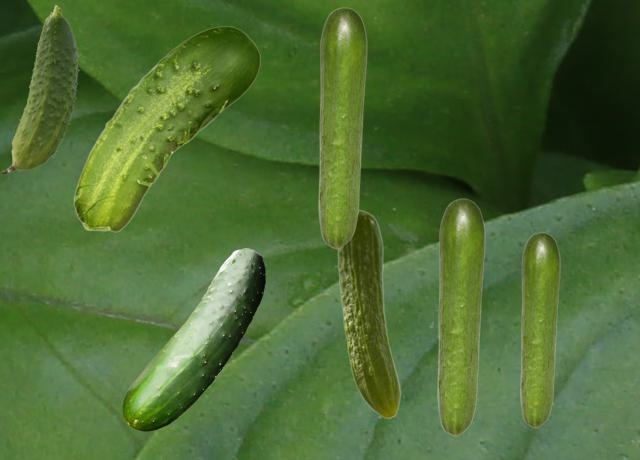cucumber: (73, 26, 259, 231), (122, 248, 264, 430), (337, 209, 400, 418), (1, 5, 78, 173), (318, 7, 366, 248), (437, 198, 484, 435), (520, 232, 559, 427)
